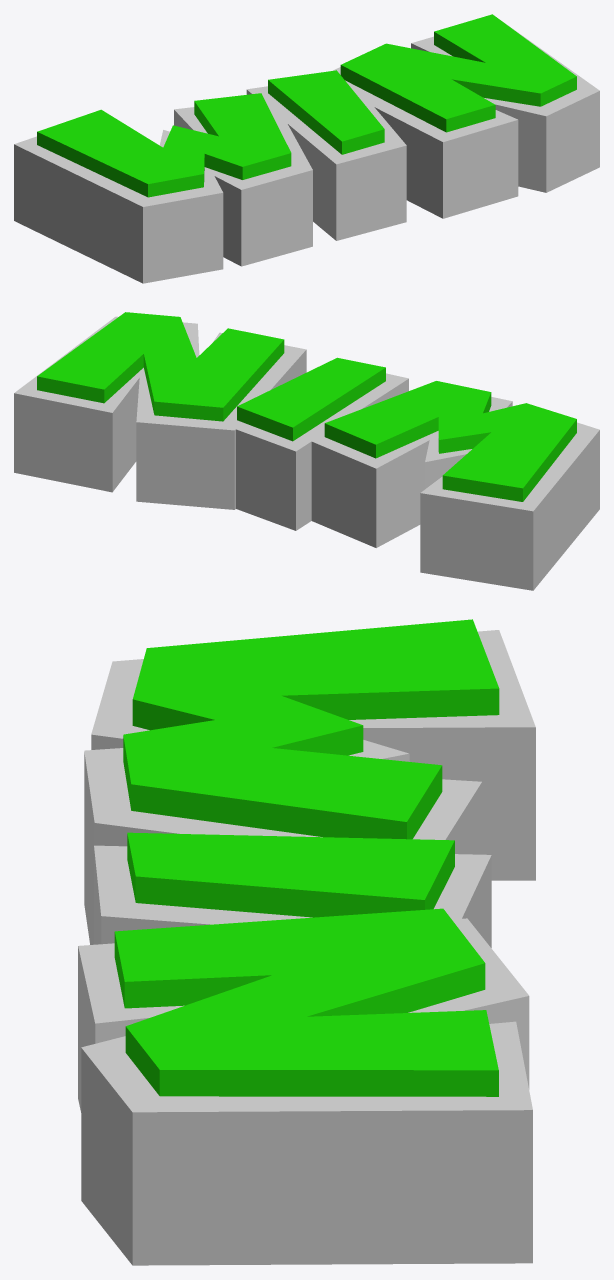
File: Win_Text.fbx
The picture shows the model from 3 angles, top to bottom: view 1: azimuth 30°, elevation 25°; view 2: azimuth 150°, elevation 25°; view 3: azimuth 270°, elevation 25°; orthographic projection. The views are drawn at different scales.
Visible parts, largest first — view 1: Text; view 2: Text; view 3: Text.
Part boxes in pixels (bbox=[...]): Text: bbox=[14, 14, 599, 283]; Text: bbox=[14, 312, 599, 590]; Text: bbox=[78, 619, 535, 1265].
Bounding box in the file's own units: 162 × 28.16 × 64.95.
